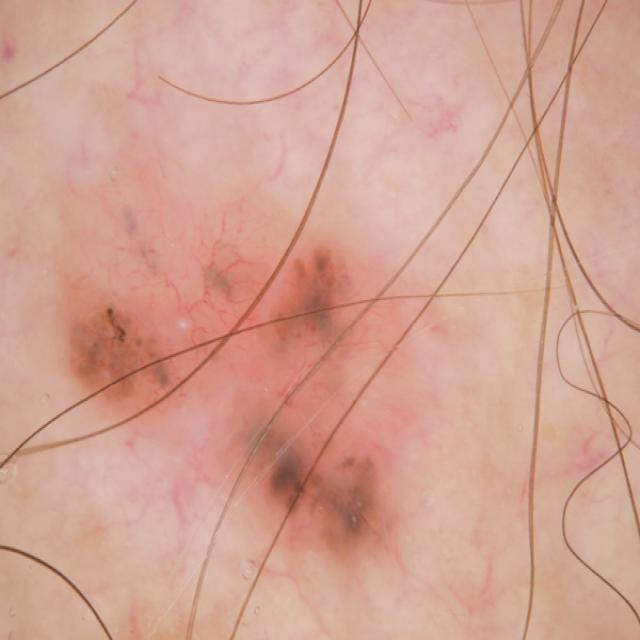Skin-Cancer Basal cell carcinoma: (15, 72, 527, 640)
